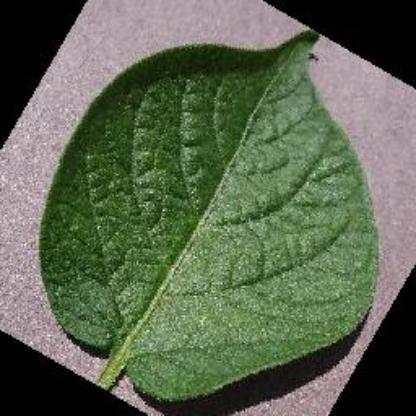Healthy-plant: (37, 28, 381, 406)
